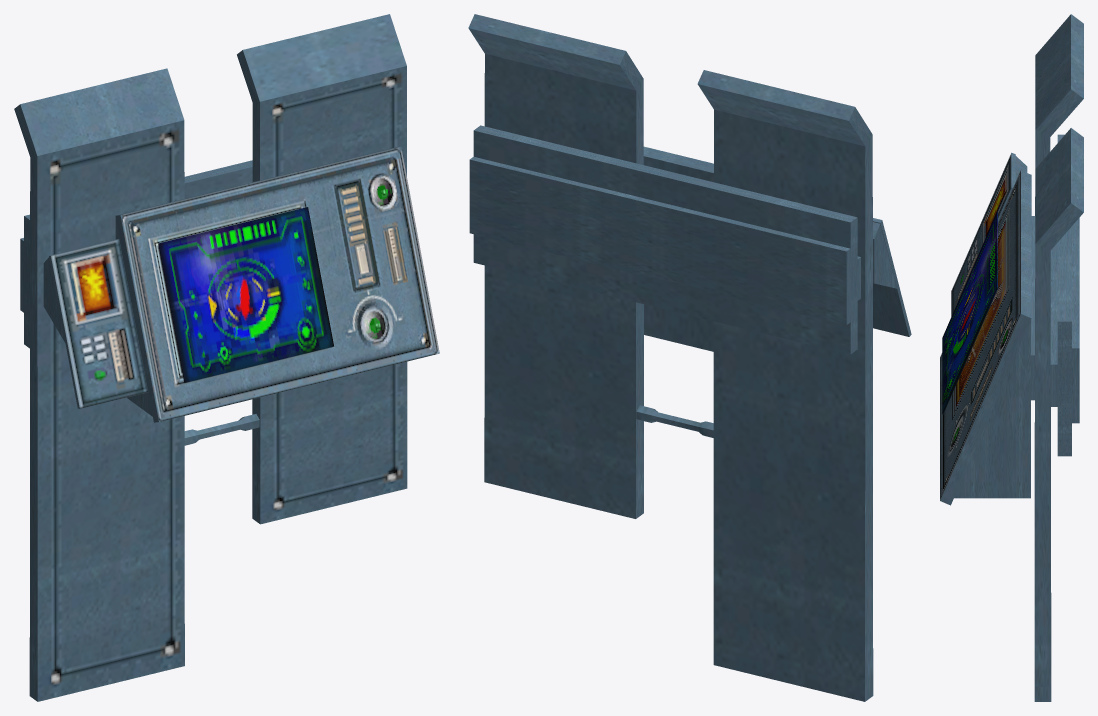
The model's file is frn_all_data_terminal_free_s2_l0.fbx.
3 views of the same model, side by side, from view 1: azimuth 30°, elevation 25°; view 2: azimuth 150°, elevation 25°; view 3: azimuth 270°, elevation 25° (orthographic). The views are drawn at different scales.
Visible parts, largest first — view 1: mesh_node; view 2: mesh_node; view 3: mesh_node.
Boxes of the visible parts, box(x1,y1,x2,y2) form: mesh_node: box(14, 14, 439, 701); mesh_node: box(468, 14, 911, 701); mesh_node: box(940, 14, 1083, 701).
Bounding box in the file's own units: 1.23 × 1.85 × 0.3946.
2 materials, 2 textured.
